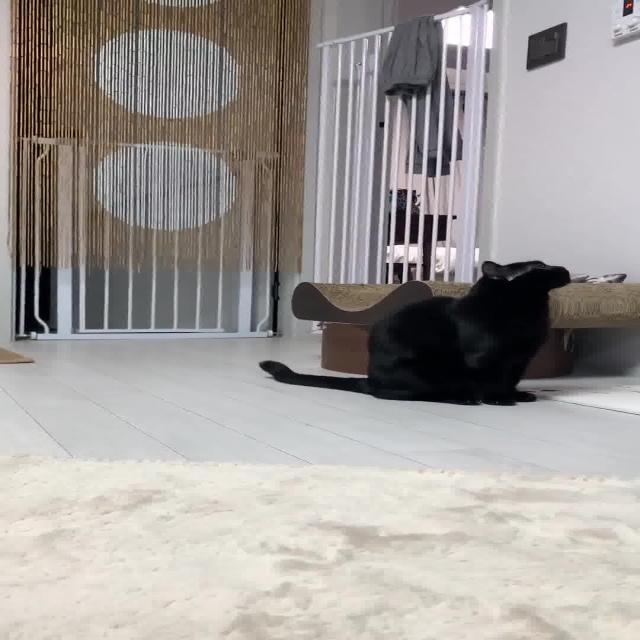cat: (237, 247, 584, 413)
